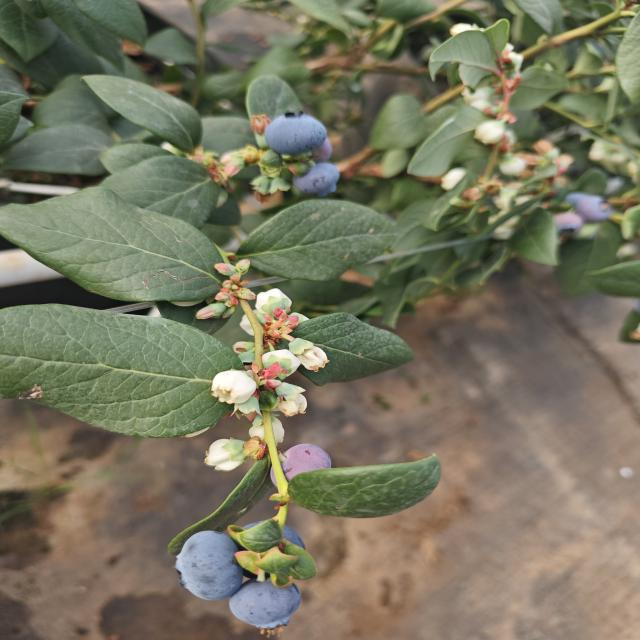ripe: (172, 529, 245, 603), (234, 519, 313, 579), (545, 180, 619, 238), (261, 109, 330, 160), (232, 588, 306, 634), (276, 442, 334, 484), (290, 162, 342, 198)
